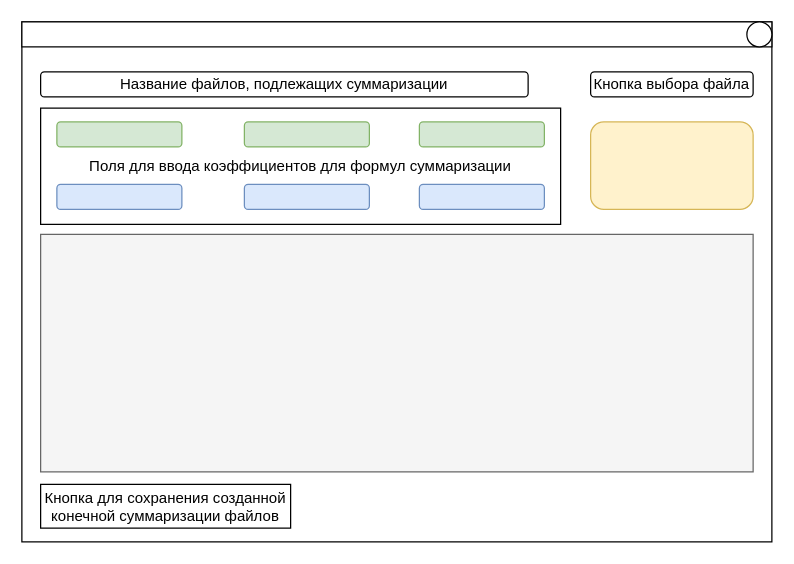
This 794x564 diagram has some shape labels left out. The shapes that lost their labels are listed below. From the top down, each one's centre as x and y in pixels, then its label:
At point (671, 165): "Кнопка запуска процесса суммаризации".
At point (396, 352): "Поле для вывода конечной суммаризации файлов".
